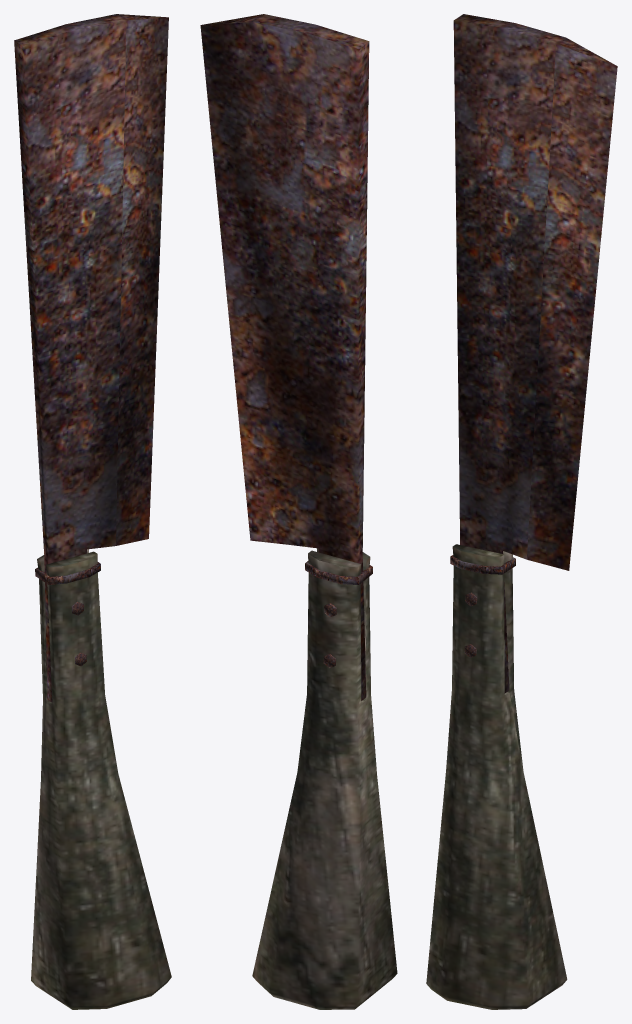
The model's file is tools_5_0.fbx.
The picture shows the model from 3 angles, left to right: view 1: azimuth 30°, elevation 25°; view 2: azimuth 150°, elevation 25°; view 3: azimuth 330°, elevation 25°; orthographic projection. The views are drawn at different scales.
Visible parts, largest first — view 1: tools_5; view 2: tools_5; view 3: tools_5.
Part boxes in pixels (x1=…): tools_5: x1=14, y1=14, x2=171, y2=1009; tools_5: x1=200, y1=14, x2=397, y2=1009; tools_5: x1=426, y1=14, x2=617, y2=1009.
Bounding box in the file's own units: 36.77 × 215 × 24.38.
Materials: 1 (1 with a texture image).
